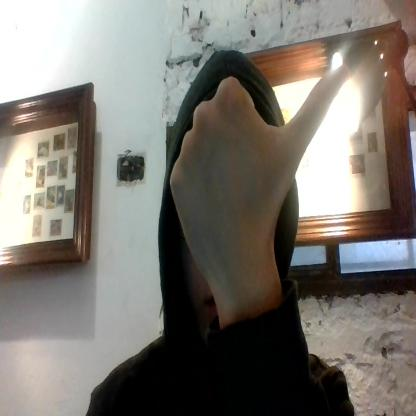left: (167, 64, 349, 258)
